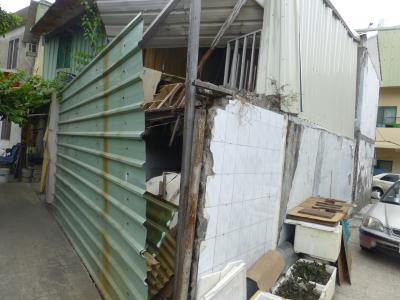box: (291, 223, 344, 264)
styrofoam: (284, 259, 341, 297)
